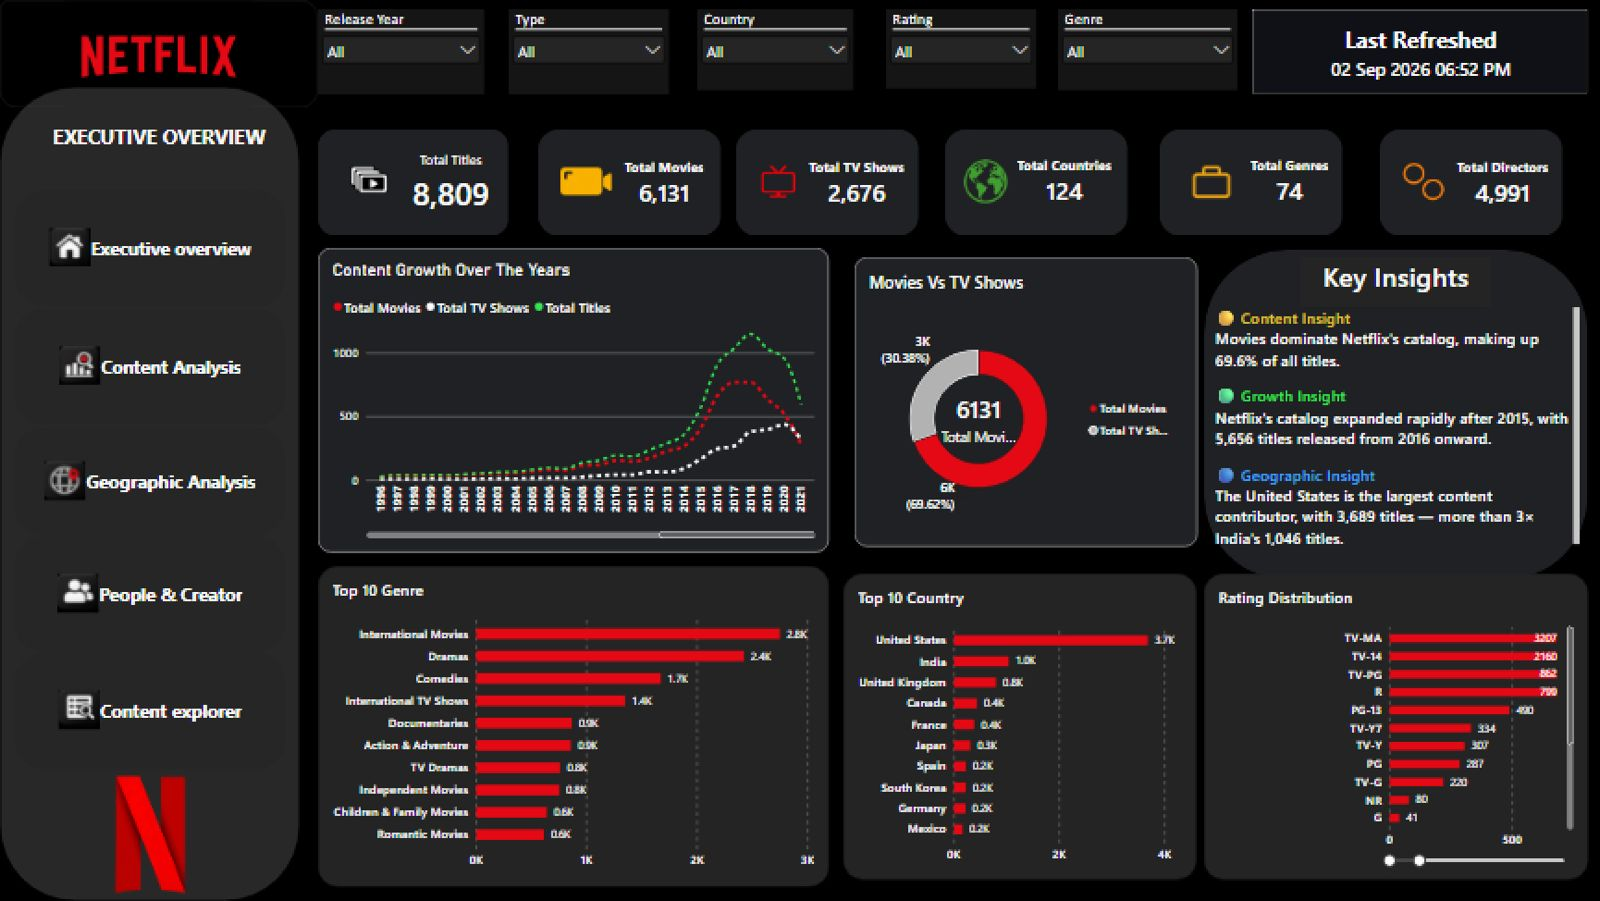

The page's visual inventory and layout, read from the dashboard file:
{"tool":"powerbi","page":{"name":"Executive overview","canvas":[1920,1080],"ordinal":0},"visuals":[{"type":"image","box":[0,0,381.2,129.4],"z":0},{"type":"actionButton","box":[18.5,228.7,323.7,138.9],"z":0,"group":"g1"},{"type":"shape","box":[0,104.2,359.2,975.5],"z":1000},{"type":"actionButton","box":[18.5,369.9,323.7,138.9],"z":1000,"group":"g1"},{"type":"textbox","box":[0,129.4,381.2,97],"z":2000},{"type":"actionButton","box":[18.5,513.4,323.7,129.8],"z":2000,"group":"g1"},{"type":"group","id":"g1","title":"Group 1","box":[18.5,228.7,323.5,693.1],"z":3000},{"type":"actionButton","box":[18.5,643.3,323.7,138.9],"z":3000,"group":"g1"},{"type":"slicer","fields":{"Values":["netflix_titles.release_year"]},"box":[381.2,11.6,198.7,101.7],"z":4000},{"type":"actionButton","box":[18.5,782.2,323.7,138.9],"z":4000,"group":"g1"},{"type":"slicer","fields":{"Values":["netflix_titles.type"]},"box":[610,11.6,191.8,101.7],"z":5000},{"type":"slicer","fields":{"Values":["Dimcountry.Country"]},"box":[836.4,11.6,187.1,97],"z":6000},{"type":"slicer","fields":{"Values":["netflix_titles.rating"]},"box":[1062.8,11.6,180.2,94.7],"z":7000},{"type":"slicer","fields":{"Values":["DimGenre.Genre"]},"box":[1268.4,11.6,214.9,97],"z":8000},{"type":"cardVisual","fields":{"Data":["DimCast.Last Refreshed"]},"box":[1501.8,11.6,402,101.7],"z":9000},{"type":"image","box":[0,921.9,358.1,157.1],"z":10000},{"type":"cardVisual","fields":{"Data":["DimCast.Total Titles"]},"box":[381.2,154.8,228.7,127.1],"z":11000},{"type":"cardVisual","fields":{"Data":["DimCast.Total Movies"]},"box":[644.6,154.8,219.5,127.1],"z":12000},{"type":"cardVisual","fields":{"Data":["DimCast.Total TV Shows"]},"box":[882.6,154.8,219.5,127.1],"z":13000},{"type":"cardVisual","fields":{"Data":["DimCast.Total Countries"]},"box":[1132.1,154.8,219.5,127.1],"z":14000},{"type":"cardVisual","fields":{"Data":["DimCast.Total Genres"]},"box":[1390.9,154.8,219.5,127.1],"z":15000},{"type":"cardVisual","fields":{"Data":["DimCast.Total Directors"]},"box":[1654.3,154.8,219.5,127.1],"z":16000},{"type":"lineChart","title":"Content Growth Over The Years","fields":{"Category":["netflix_titles.release_year"],"Y":["DimCast.Total Movies","DimCast.Total TV Shows","DimCast.Total Titles"]},"box":[381.2,298.1,612.3,365.1],"z":17000},{"type":"donutChart","title":" Movies Vs  TV Shows","fields":{"Y":["DimCast.Total Movies","DimCast.Total TV Shows"]},"box":[1023.5,307.3,411.3,346.6],"z":18000},{"type":"shape","box":[1444,300.4,459.8,395.1],"z":19000},{"type":"textbox","box":[1559.6,307.3,228.7,60.1],"z":20000},{"type":"textbox","box":[1455.6,367.4,436.7,286.5],"z":21000},{"type":"clusteredBarChart","title":"Top 10 Genre ","fields":{"Category":["DimGenre.Genre"],"Y":["DimCast.Genre Title Count"]},"box":[381.2,679.3,612.3,383.5],"z":22000},{"type":"clusteredBarChart","title":"Top 10 Country","fields":{"Category":["Dimcountry.Country"],"Y":["DimCast.Country Title Count"]},"box":[1012,686.2,422.8,367.4],"z":23000},{"type":"clusteredBarChart","title":"Rating Distribution","fields":{"Category":["netflix_titles.rating"],"Y":["CountNonNull(netflix_titles.show_id)"]},"box":[1444,686.2,459.8,367.4],"z":24000}]}

Visuals, with their boxes in screenshot pixels (x1, y1, x2, y2), scaled from the page's 1920x1080 canvas onto the 1600x901 screenshot:
image: detection(0, 0, 318, 108)
actionButton: detection(15, 191, 285, 307)
shape: detection(0, 87, 299, 900)
actionButton: detection(15, 309, 285, 424)
textbox: detection(0, 108, 318, 189)
actionButton: detection(15, 428, 285, 537)
"Group 1" group: detection(15, 191, 285, 769)
actionButton: detection(15, 537, 285, 653)
slicer - netflix_titles.release_year: detection(318, 10, 483, 95)
actionButton: detection(15, 653, 285, 768)
slicer - netflix_titles.type: detection(508, 10, 668, 95)
slicer - Dimcountry.Country: detection(697, 10, 853, 91)
slicer - netflix_titles.rating: detection(886, 10, 1036, 89)
slicer - DimGenre.Genre: detection(1057, 10, 1236, 91)
cardVisual - DimCast.Last Refreshed: detection(1252, 10, 1586, 95)
image: detection(0, 769, 298, 900)
cardVisual - DimCast.Total Titles: detection(318, 129, 508, 235)
cardVisual - DimCast.Total Movies: detection(537, 129, 720, 235)
cardVisual - DimCast.Total TV Shows: detection(736, 129, 918, 235)
cardVisual - DimCast.Total Countries: detection(943, 129, 1126, 235)
cardVisual - DimCast.Total Genres: detection(1159, 129, 1342, 235)
cardVisual - DimCast.Total Directors: detection(1379, 129, 1562, 235)
"Content Growth Over The Years" lineChart: detection(318, 249, 828, 553)
" Movies Vs  TV Shows" donutChart: detection(853, 256, 1196, 546)
shape: detection(1203, 251, 1586, 580)
textbox: detection(1300, 256, 1490, 307)
textbox: detection(1213, 307, 1577, 546)
"Top 10 Genre " clusteredBarChart: detection(318, 567, 828, 887)
"Top 10 Country" clusteredBarChart: detection(843, 572, 1196, 879)
"Rating Distribution" clusteredBarChart: detection(1203, 572, 1586, 879)
